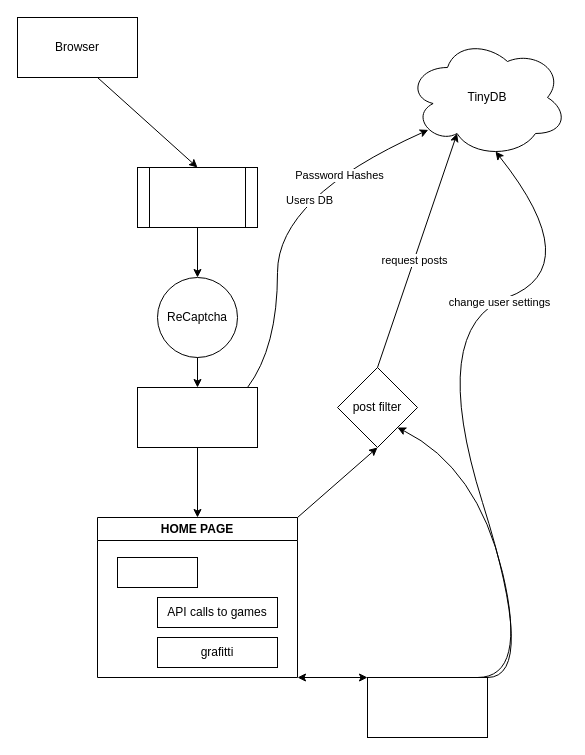
The diagram is 585 pixels wide and 755 high, and some of its shapes have lost their labels. Each missing label, with the centre of its shape:
curl lib: (x=157, y=572)
flask: (x=197, y=197)
LOGIN: (x=197, y=417)
Settings: (x=427, y=707)
